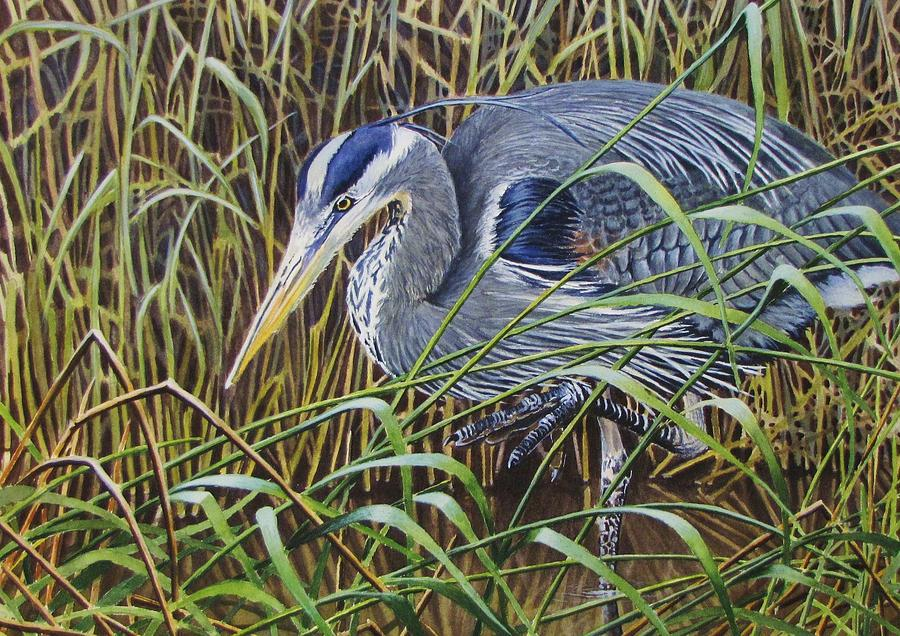heron: (231, 76, 900, 575)
